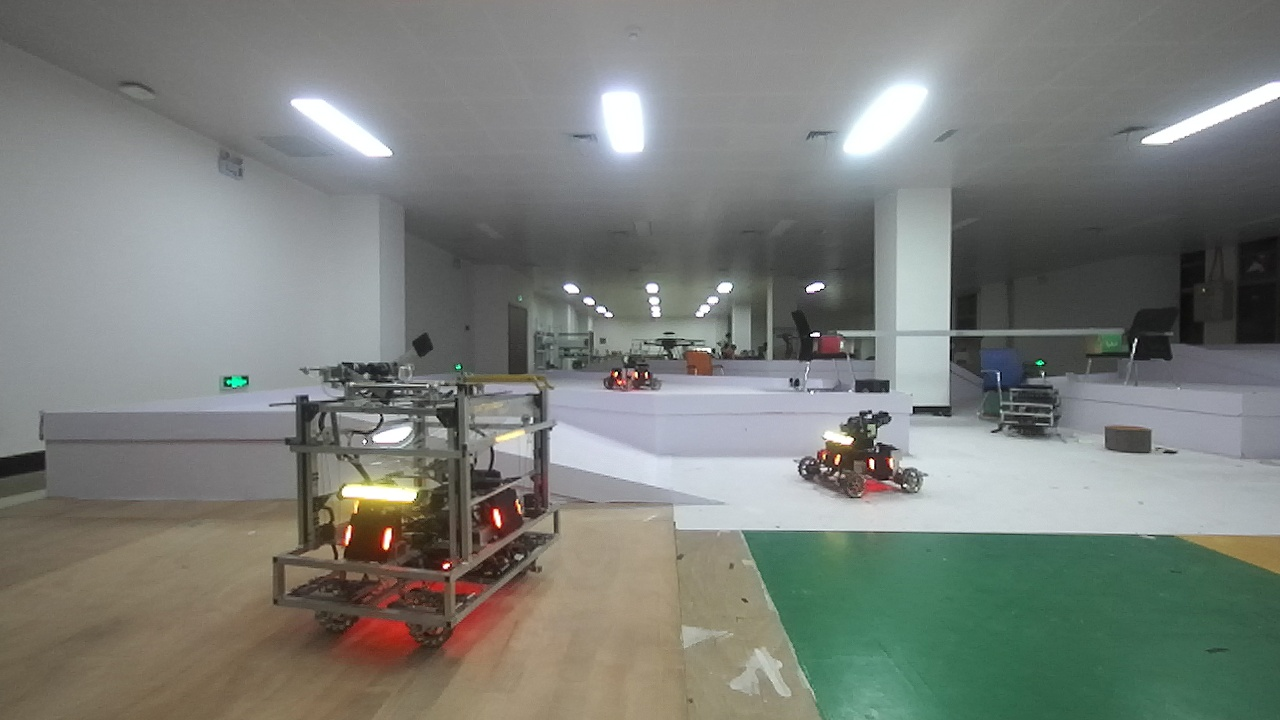car: (293, 361, 577, 645), (796, 396, 908, 508), (598, 343, 665, 410)
